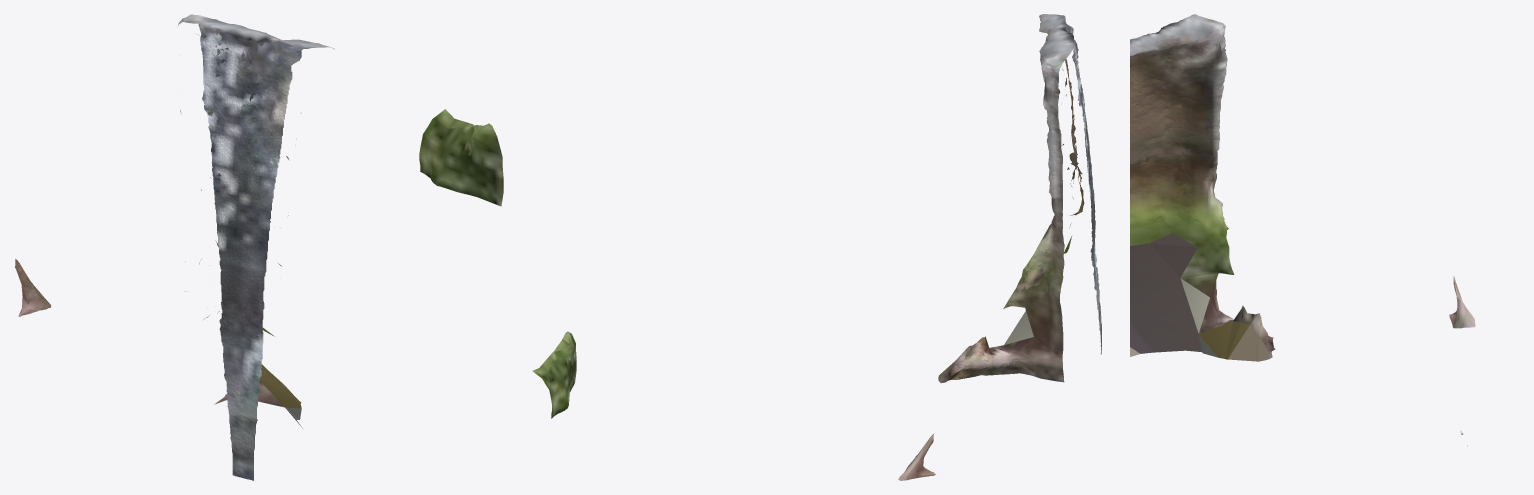
3 views of the same model, side by side, from view 1: azimuth 30°, elevation 25°; view 2: azimuth 150°, elevation 25°; view 3: azimuth 270°, elevation 25° (orthographic). The views are drawn at different scales.
Size of the model in its own units: 0.983 by 0.8406 by 0.983.
1 material, 1 textured.
